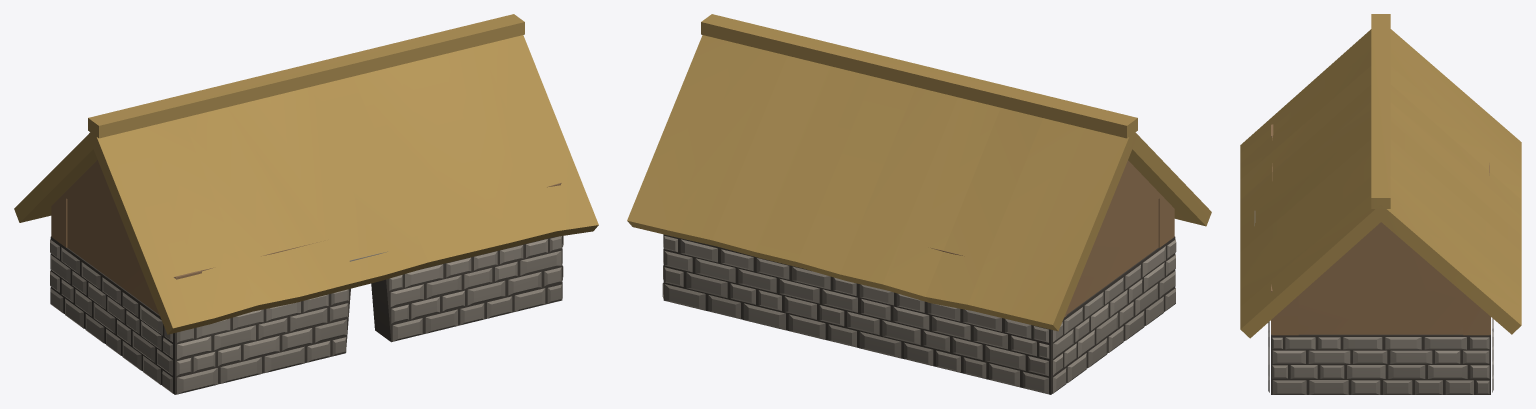
Rendered from cusco_wasi_lod0.glb.
The picture shows the model from 3 angles, left to right: view 1: azimuth 30°, elevation 25°; view 2: azimuth 150°, elevation 25°; view 3: azimuth 270°, elevation 25°; orthographic projection. The views are drawn at different scales.
Parts seen in each view (by area): view 1: GEO-Arch_cusco_wasi_LOD0; view 2: GEO-Arch_cusco_wasi_LOD0; view 3: GEO-Arch_cusco_wasi_LOD0.
Part boxes in pixels (x1=…): GEO-Arch_cusco_wasi_LOD0: x1=14, y1=14, x2=598, y2=394; GEO-Arch_cusco_wasi_LOD0: x1=627, y1=14, x2=1211, y2=394; GEO-Arch_cusco_wasi_LOD0: x1=1240, y1=14, x2=1521, y2=394.
Bounding box in the file's own units: 9.9 × 5.16 × 6.4.
